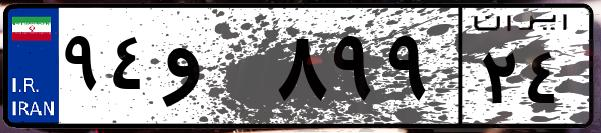2: (475, 38, 525, 113)
4: (525, 38, 570, 115), (110, 28, 158, 98)
8: (270, 28, 330, 110)
9: (385, 28, 445, 110), (330, 28, 385, 110), (57, 26, 110, 100)
و: (158, 20, 270, 120)
